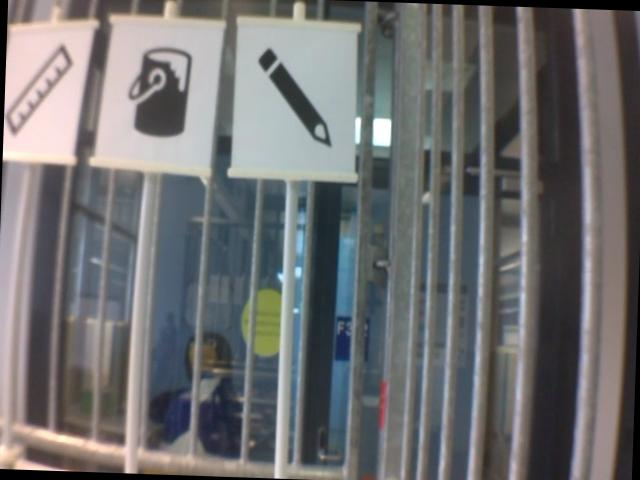bucket: (118, 39, 198, 143)
pencil: (249, 42, 339, 151)
ruler: (4, 38, 74, 144)
